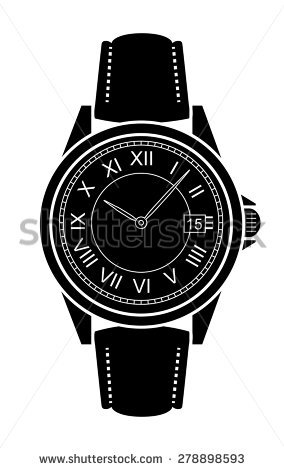clock: (49, 134, 234, 316)
